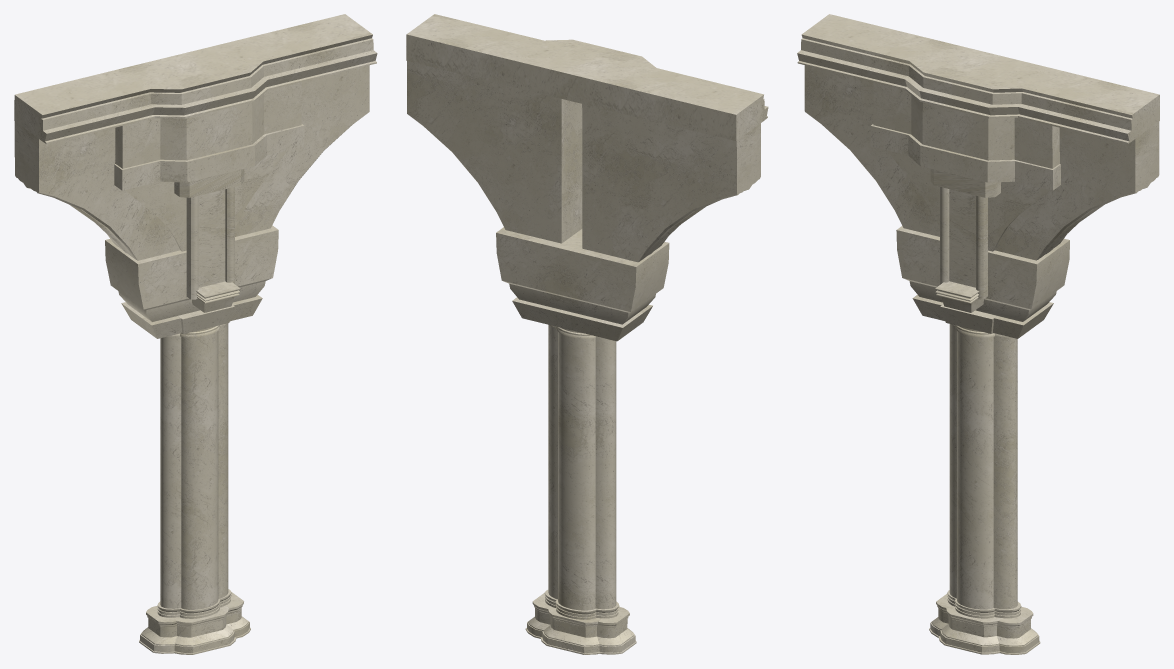
File: SM_arch.fbx
3 renders of one model, left to right at view 1: azimuth 30°, elevation 25°; view 2: azimuth 150°, elevation 25°; view 3: azimuth 330°, elevation 25°, orthographic.
Visible parts, largest first — view 1: SM_LowPoly_arch_v01_01; view 2: SM_LowPoly_arch_v01_01; view 3: SM_LowPoly_arch_v01_01.
Boxes of the visible parts, x1,y1,x2,y2 form: SM_LowPoly_arch_v01_01: (14, 14, 377, 654); SM_LowPoly_arch_v01_01: (406, 14, 768, 654); SM_LowPoly_arch_v01_01: (797, 14, 1159, 654).
Size of the model in its own units: 796 by 1317 by 200.
